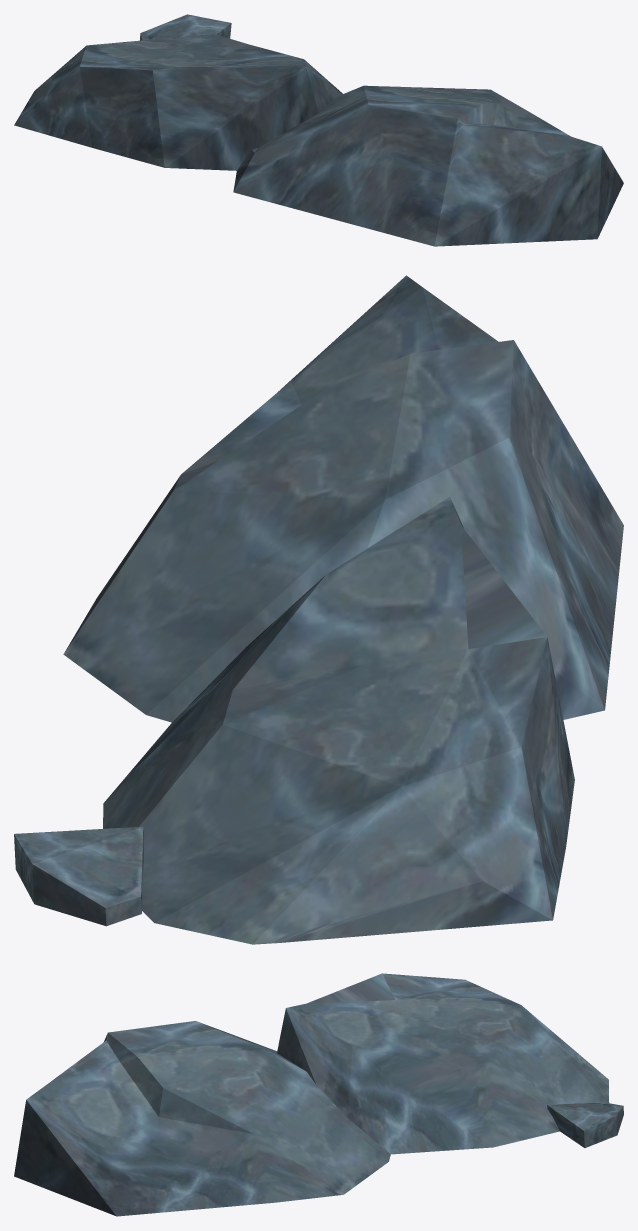
The picture shows the model from 3 angles, top to bottom: view 1: azimuth 30°, elevation 25°; view 2: azimuth 150°, elevation 25°; view 3: azimuth 270°, elevation 25°; orthographic projection. The views are drawn at different scales.
Visible parts, largest first — view 1: Object007; view 2: Object007; view 3: Object007.
Boxes of the visible parts, x1=… form: Object007: x1=14, y1=14, x2=623, y2=246; Object007: x1=14, y1=275, x2=623, y2=944; Object007: x1=14, y1=973, x2=623, y2=1216.
Size of the model in its own units: 9.98 by 2.62 by 13.68.
